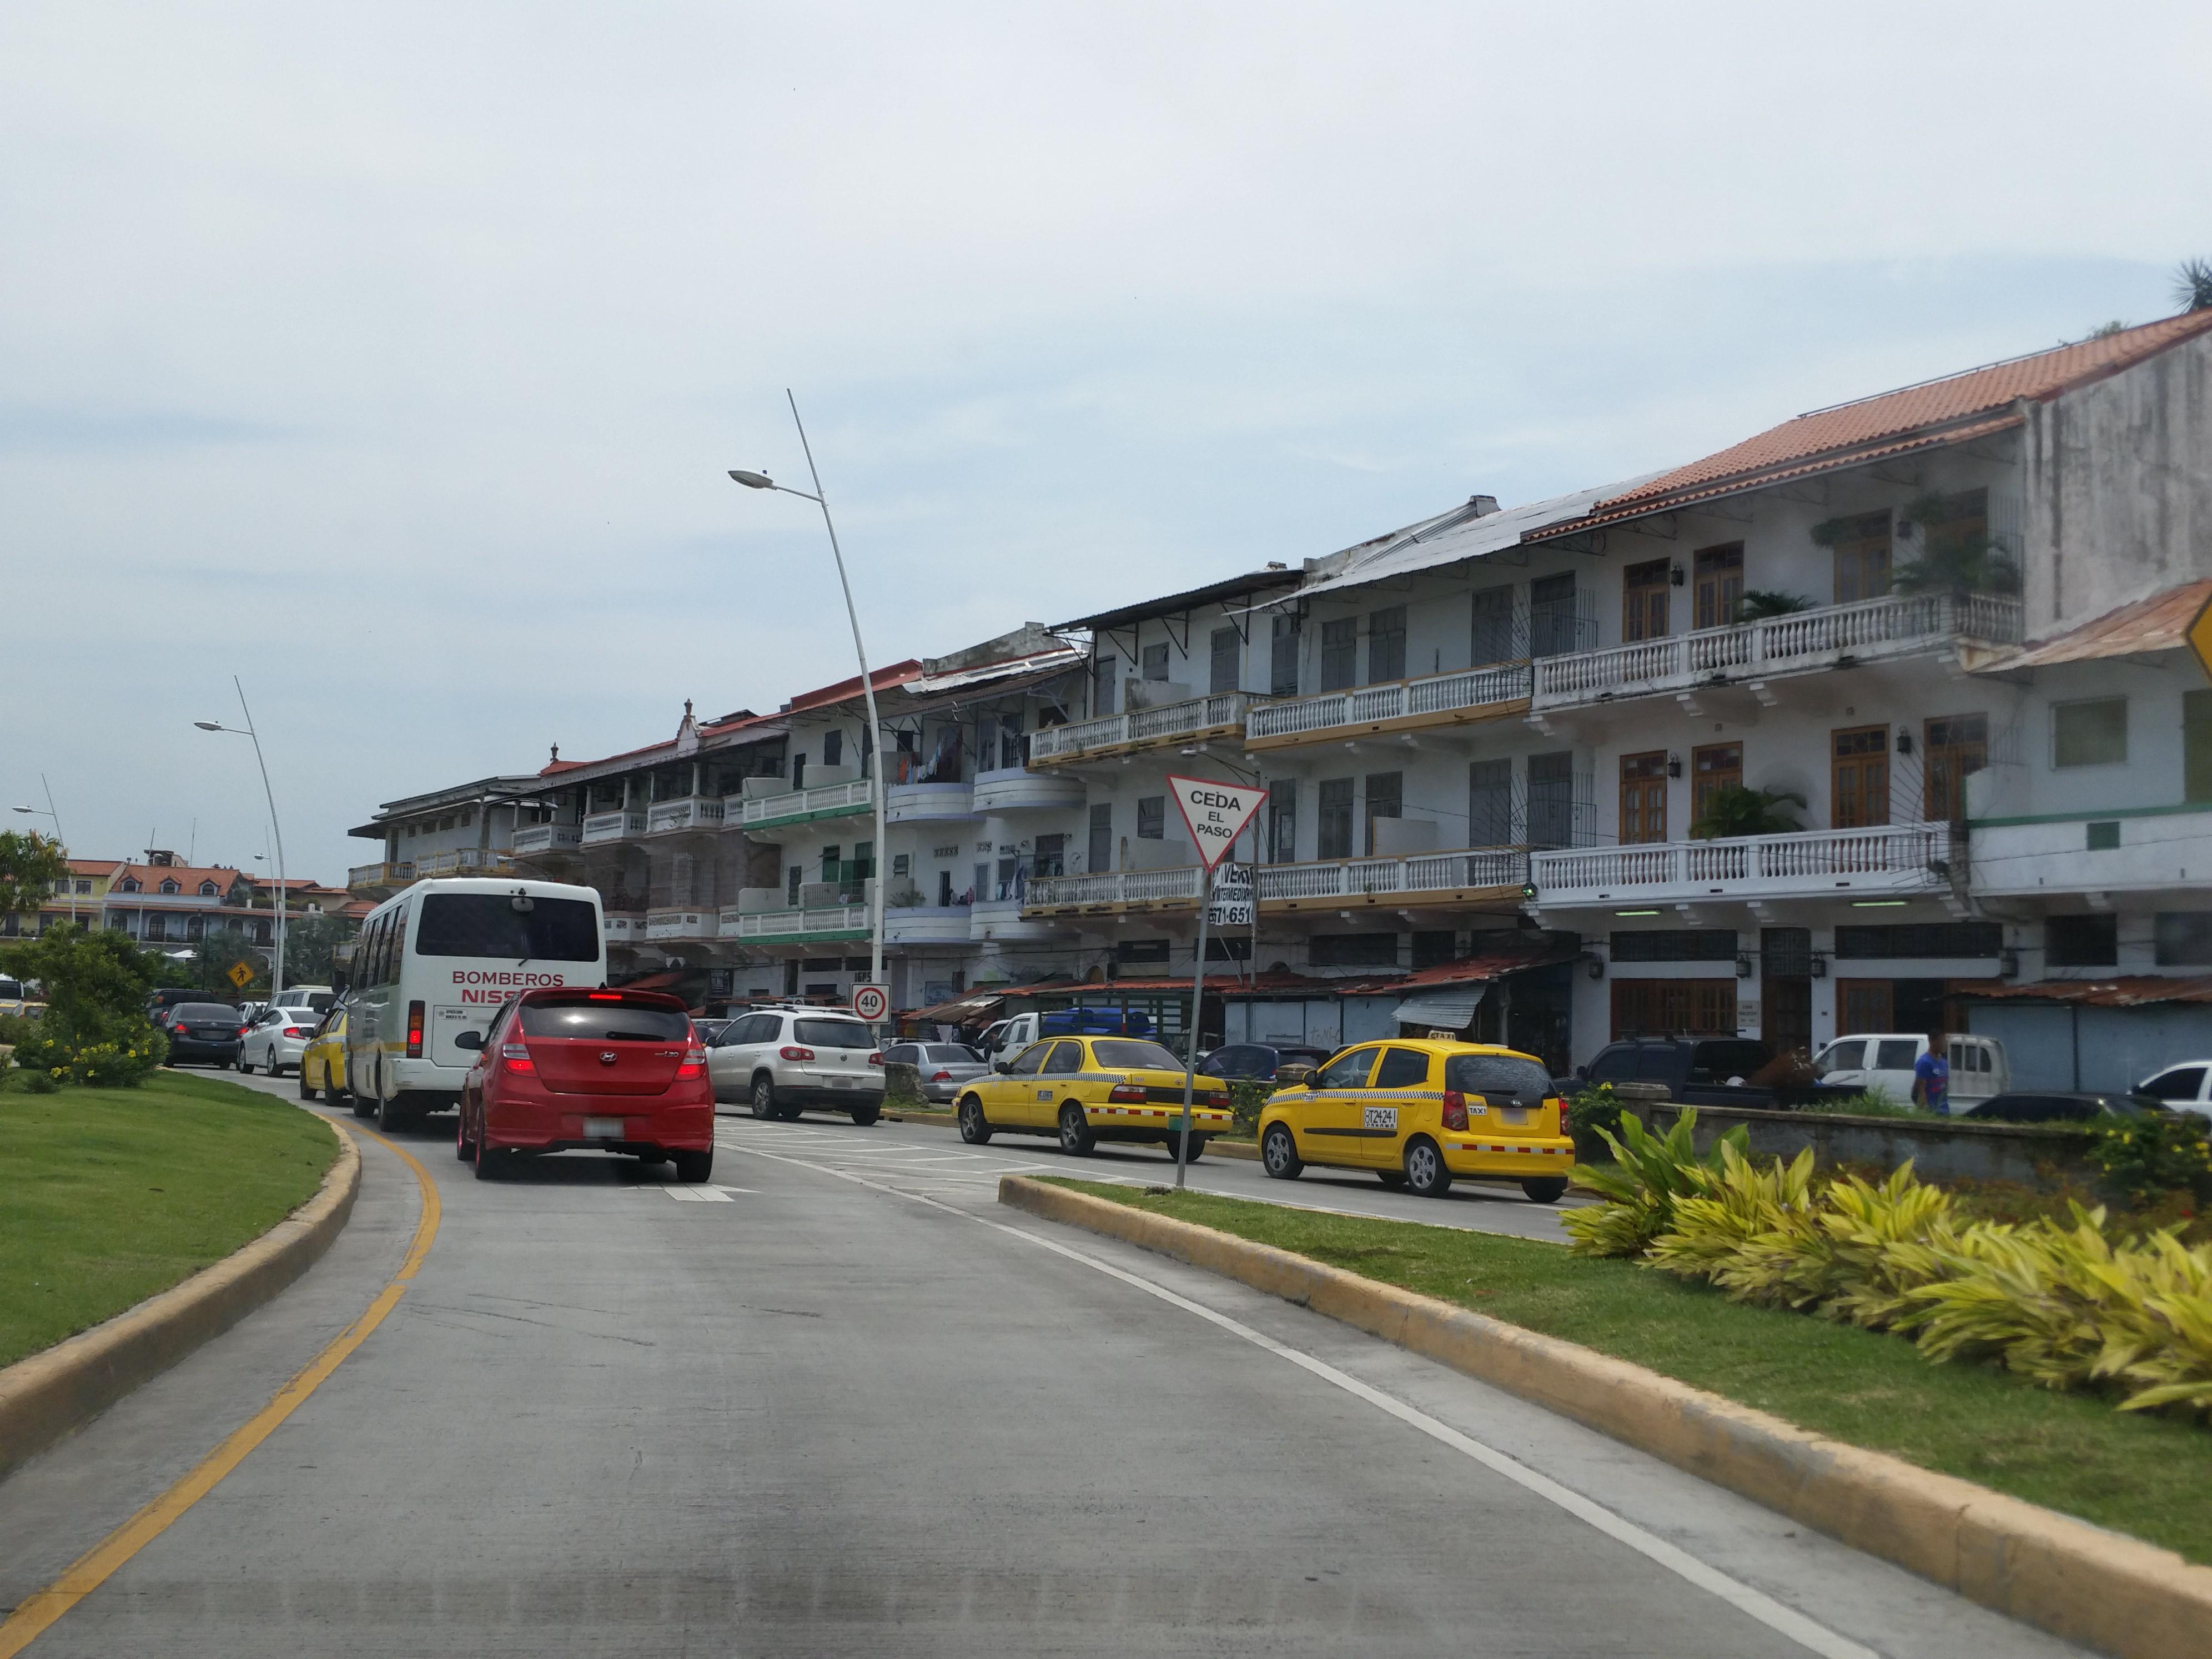vinyl banner: (1186, 845, 1266, 941)
